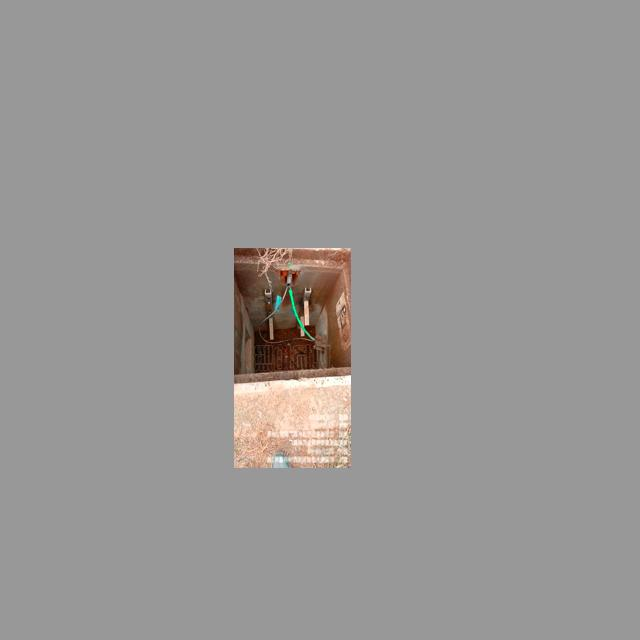lose: (234, 255, 351, 383)
